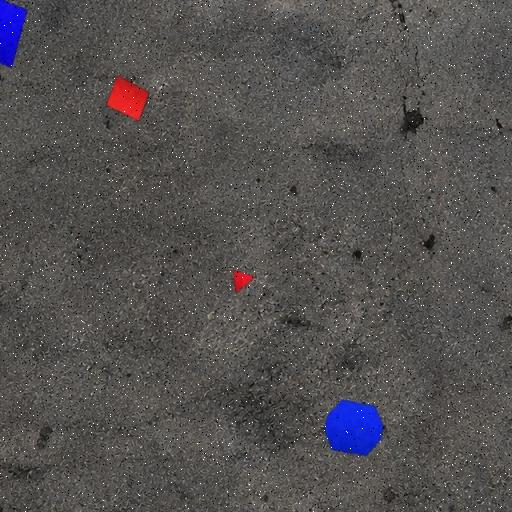RED_SQUARE: (106, 74, 150, 122)
